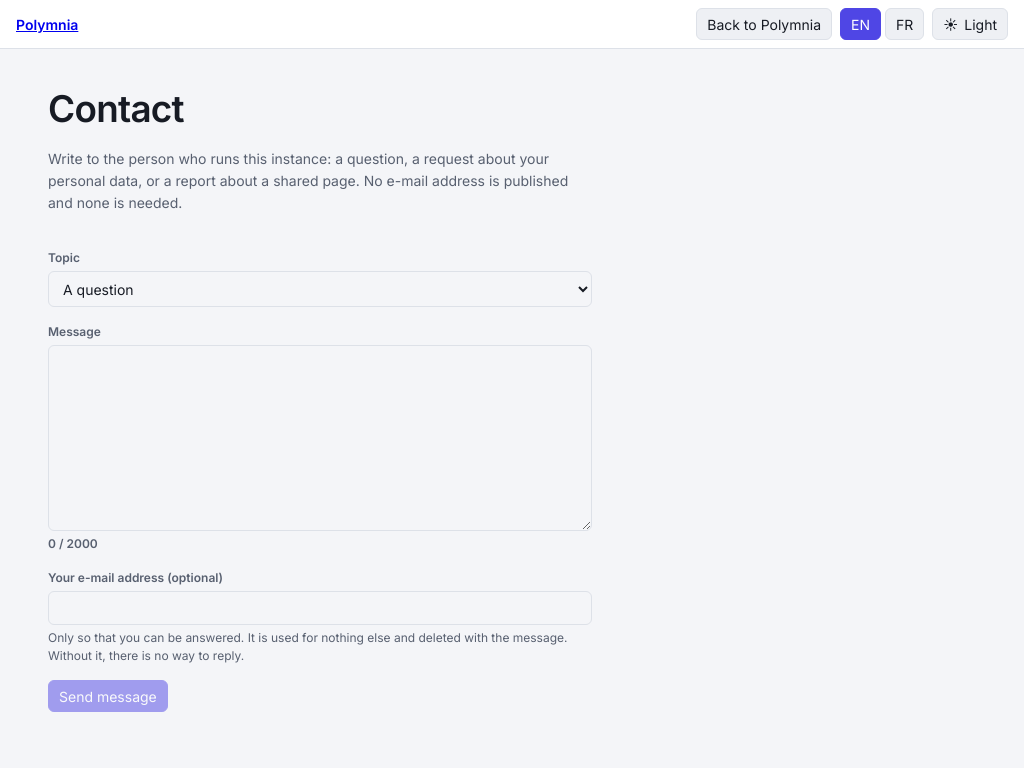
it: contact page › tells how long to wait when a rate limit answers 429
Type "Hello" into the text box labelled "Message" at (320,438), box [48, 345, 592, 531]
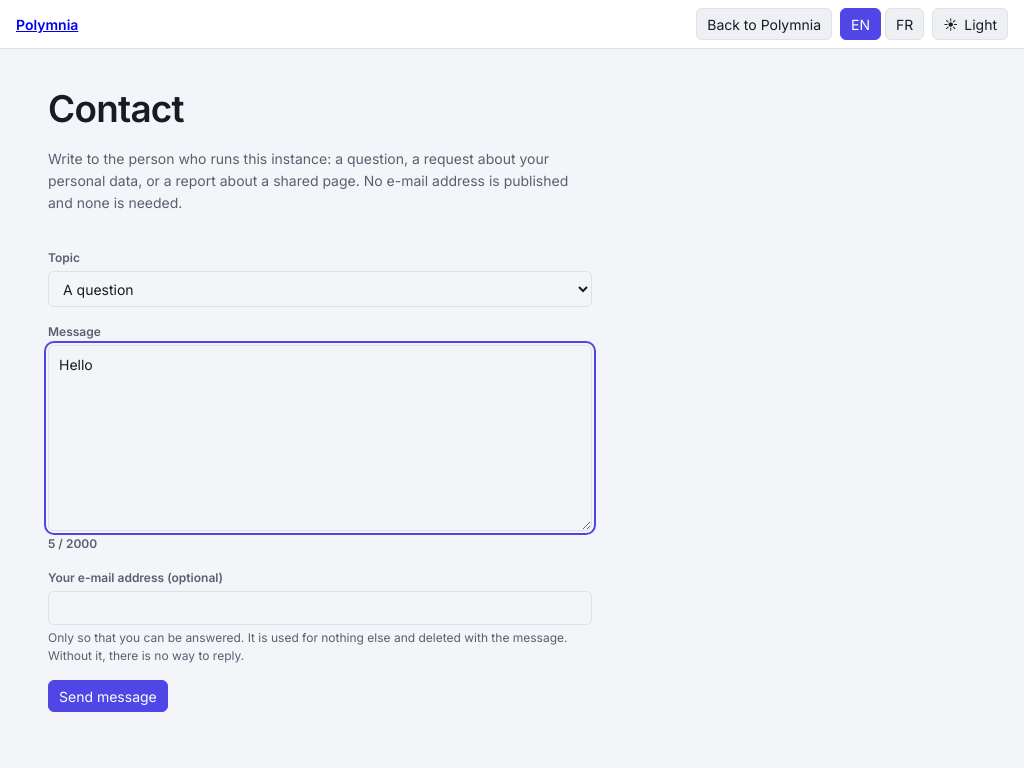
Click the button "Send message" at (108,696), box [48, 680, 168, 712]
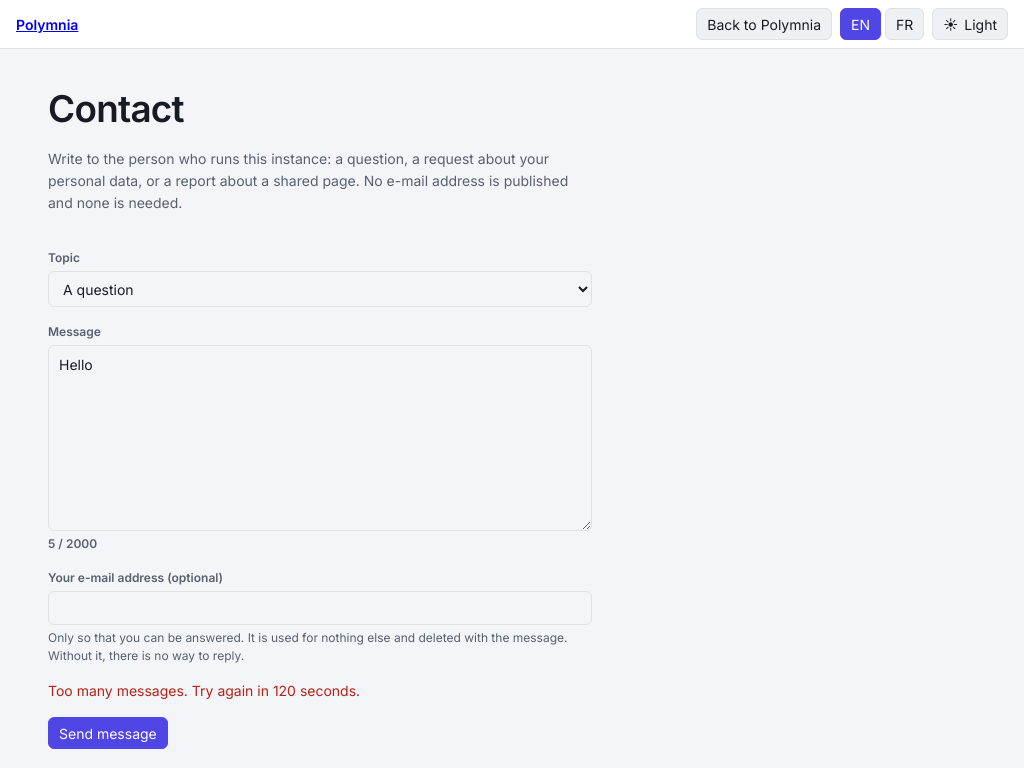
Now the message shows "Try again in 120 seconds", box [48, 682, 360, 699]
